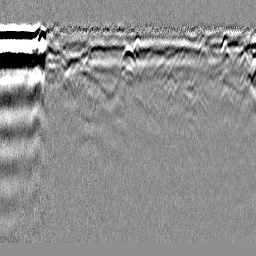cavity: (120, 44, 137, 63)
